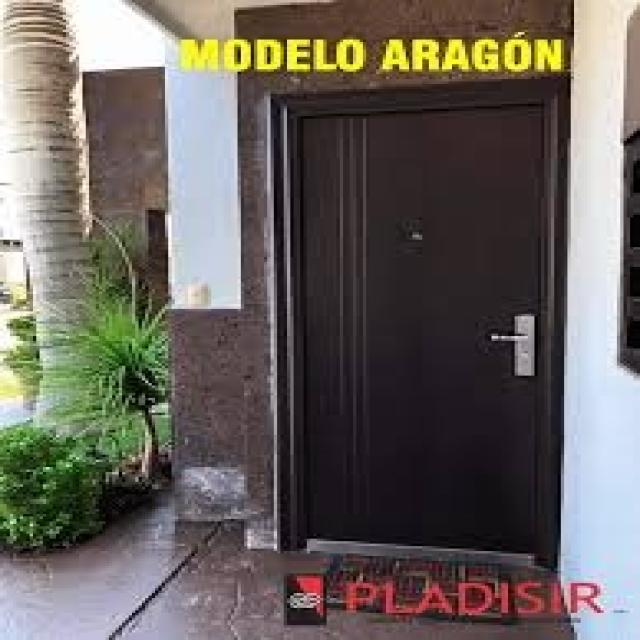door: (282, 86, 563, 568)
